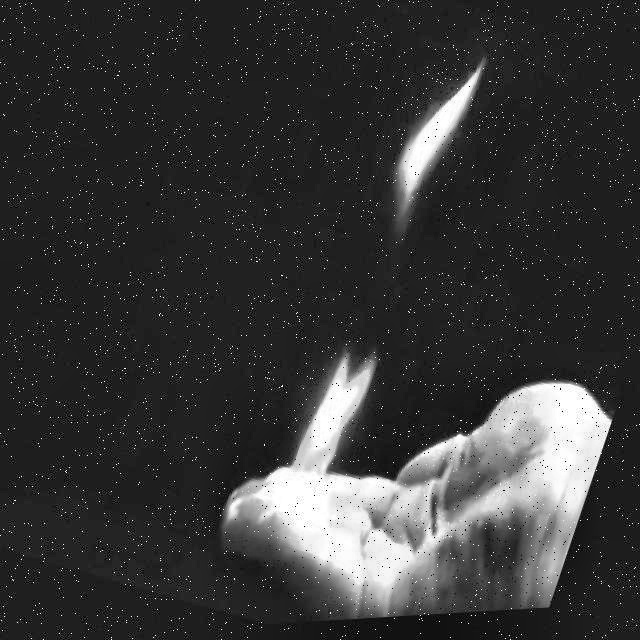Fire: (266, 334, 388, 536), (381, 55, 484, 230)
